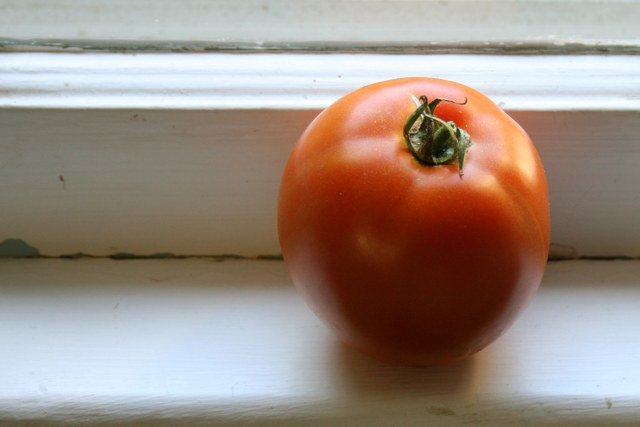tomato: (277, 77, 550, 366)
